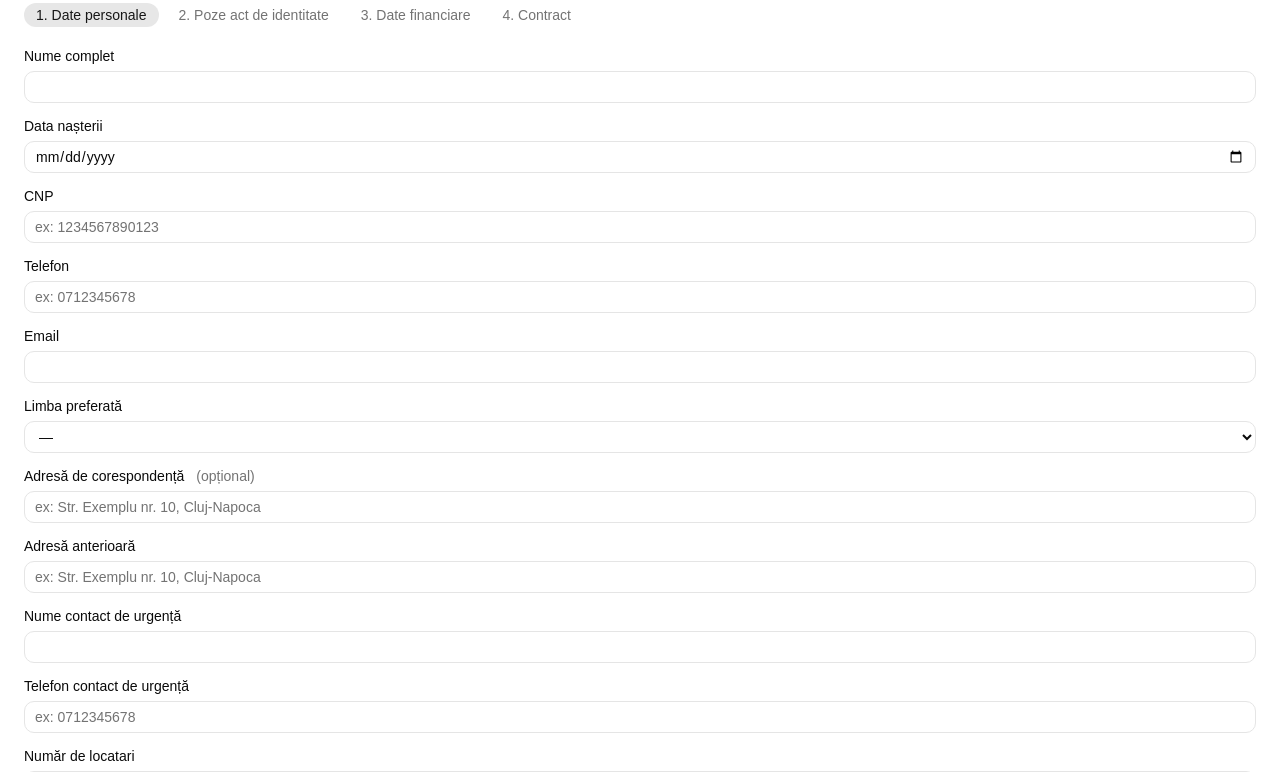
Test: OnboardingWizardPage — Step 1 personal data (FR-TEN-02) › cnp match shows a blocking warning and disables Continue
Type "1900101123456" into the field labelled "CNP" at (640, 227), box [24,211,1256,243]
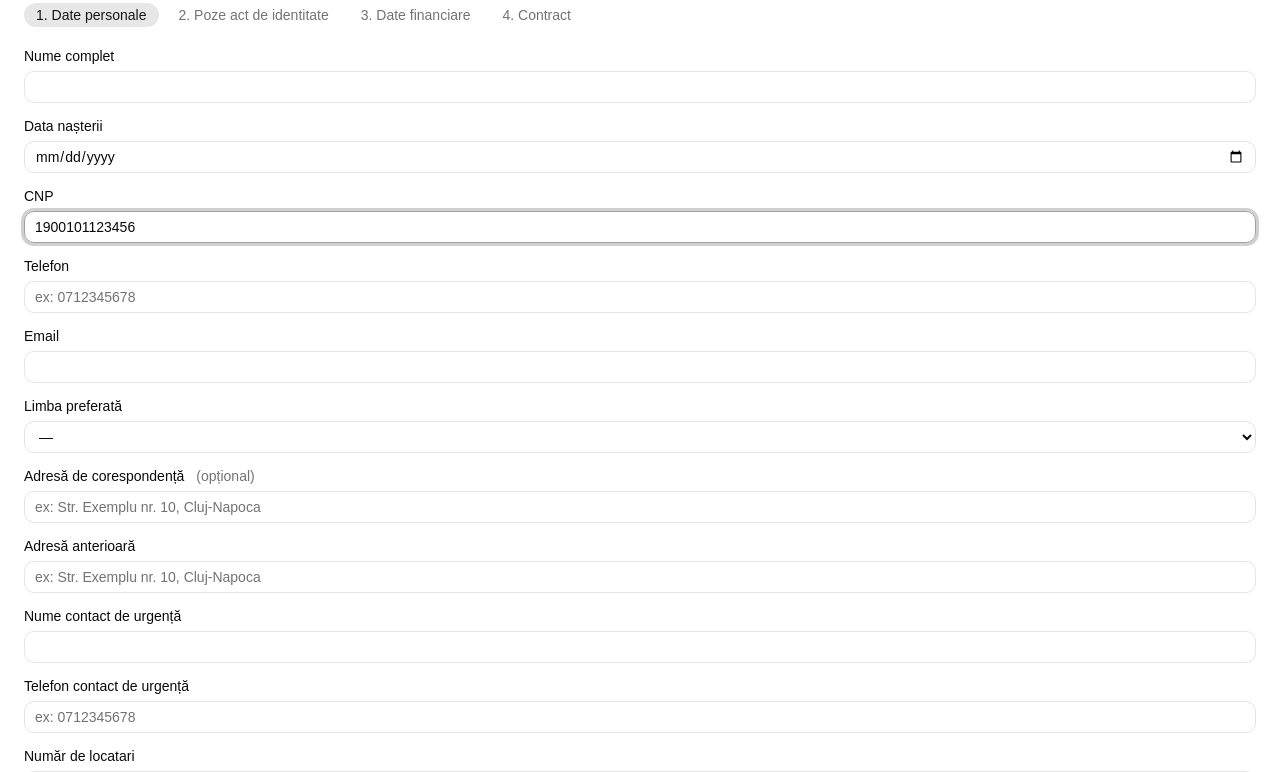
Press Tab
(page scrolled)
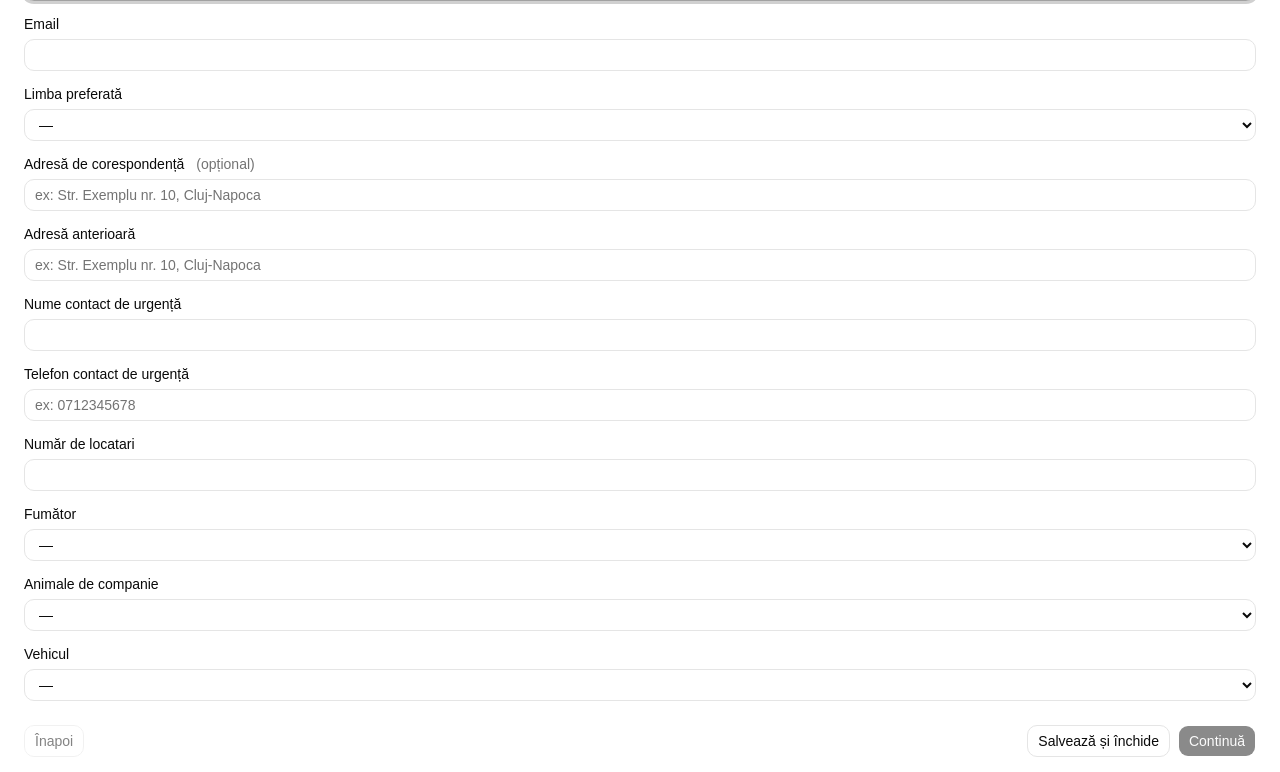
Check: the button "Continuă" is disabled, box [1178,725,1256,757]
